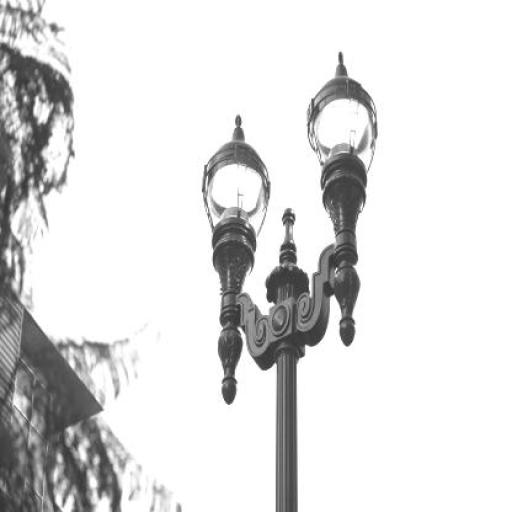street light: (203, 52, 378, 511)
